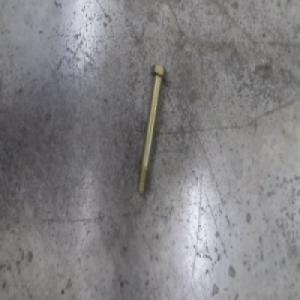Bolt: (136, 62, 168, 196)
